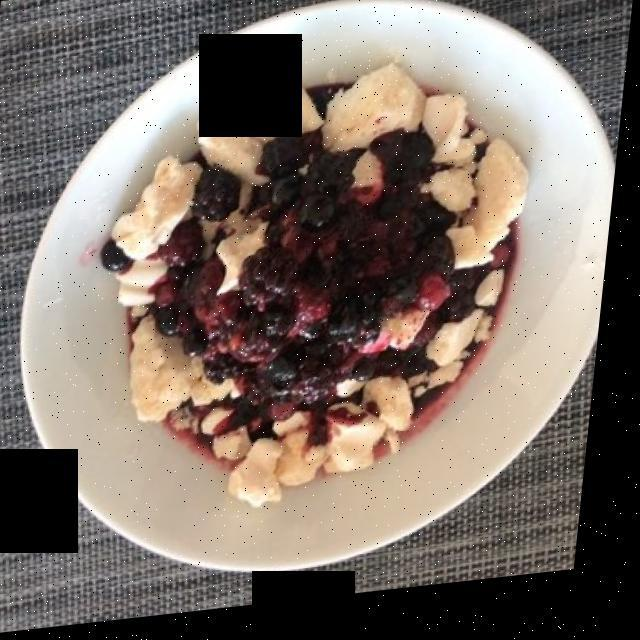coulis: (96, 126, 507, 465)
meringue: (122, 83, 534, 504)
